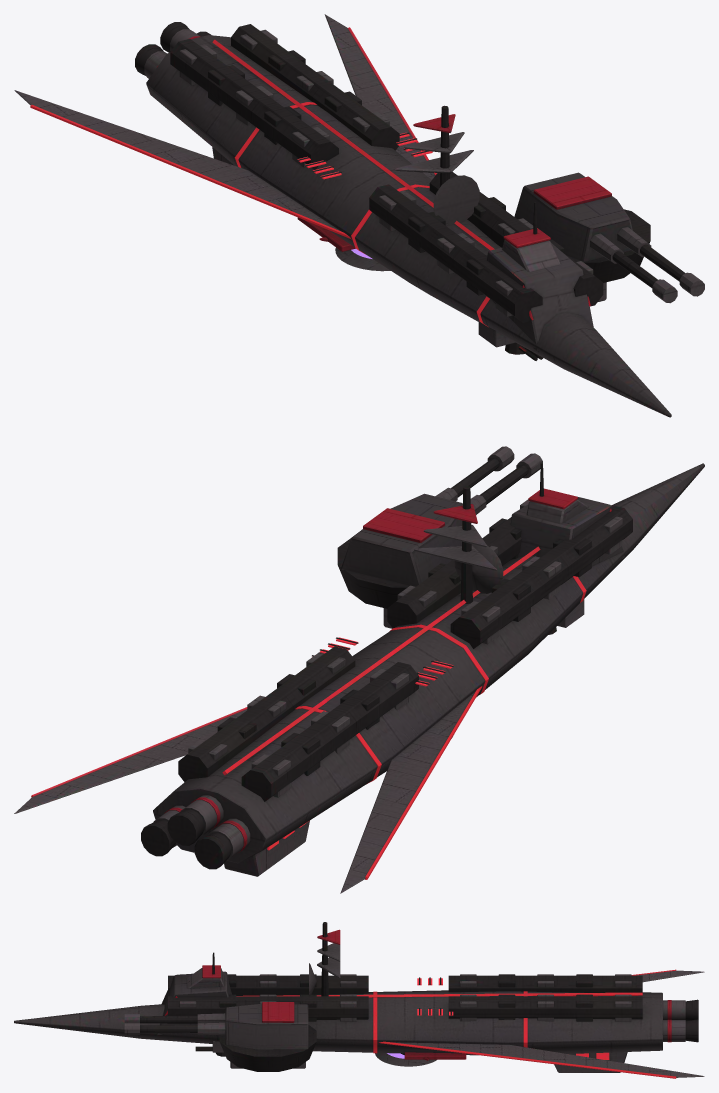
The model's file is vorrakai_picket.glb.
3 views of the same model, one above another, from view 1: azimuth 30°, elevation 25°; view 2: azimuth 150°, elevation 25°; view 3: azimuth 270°, elevation 25° (orthographic). The views are drawn at different scales.
Visible parts, largest first — view 1: HULL, SYS_BUS_A, SYS_WPN1, SYS_BUS_F, SYS_BRIDGE, SYS_SENSORS, SYS_DRIVE, SYS_REACTOR, SYS_PD, SYS_DAMP; view 2: HULL, SYS_BUS_A, SYS_BUS_F, SYS_WPN1, SYS_DRIVE, SYS_BRIDGE, SYS_SENSORS, SYS_JUMP; view 3: HULL, SYS_BUS_A, SYS_WPN1, SYS_BUS_F, SYS_BRIDGE, SYS_DRIVE, SYS_SENSORS, SYS_REACTOR, SYS_JUMP, SYS_DAMP.
Boxes of the visible parts, x1,y1,x2,y2 form: HULL: (14, 14, 671, 417); SYS_BUS_A: (170, 24, 399, 169); SYS_WPN1: (514, 172, 704, 303); SYS_BUS_F: (369, 172, 603, 322); SYS_BRIDGE: (487, 202, 593, 351); SYS_SENSORS: (394, 105, 479, 225); SYS_DRIVE: (135, 22, 211, 78); SYS_REACTOR: (297, 132, 432, 251); SYS_PD: (478, 322, 543, 360); SYS_DAMP: (319, 237, 390, 271); HULL: (14, 463, 704, 893); SYS_BUS_A: (178, 646, 418, 801); SYS_BUS_F: (387, 499, 632, 648); SYS_WPN1: (337, 446, 542, 628); SYS_DRIVE: (141, 795, 250, 869); SYS_BRIDGE: (510, 463, 624, 566); SYS_SENSORS: (414, 486, 503, 603); SYS_JUMP: (224, 820, 309, 876); HULL: (14, 969, 704, 1078); SYS_BUS_A: (448, 974, 642, 1021); SYS_WPN1: (124, 1002, 316, 1071); SYS_BUS_F: (168, 974, 368, 1021); SYS_BRIDGE: (156, 952, 231, 1035); SYS_DRIVE: (663, 999, 698, 1042); SYS_SENSORS: (309, 922, 340, 996); SYS_REACTOR: (404, 977, 466, 1059); SYS_JUMP: (554, 1052, 627, 1072); SYS_DAMP: (375, 1053, 436, 1066).
Bounding box in the file's own units: 8.72 × 5.47 × 23.64.
1 material, 1 textured.
